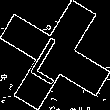L_NE: (29, 26, 81, 84)
